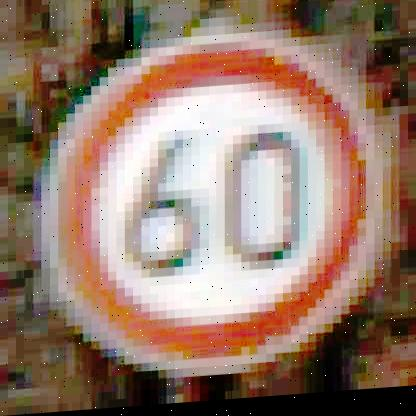Speed Limit -60-: (40, 24, 382, 386)
